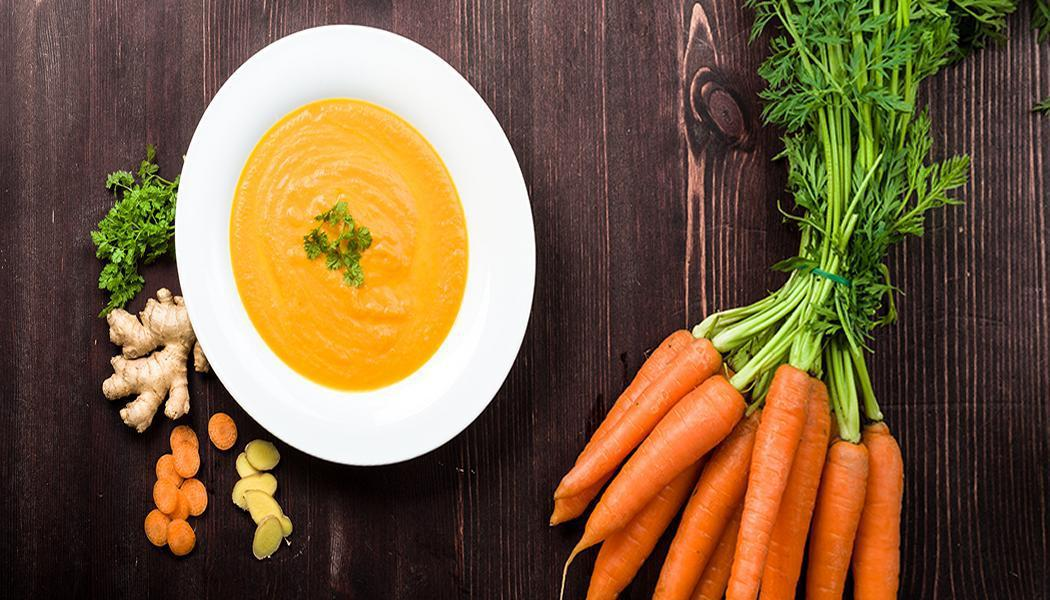carrot: (549, 314, 974, 600), (698, 354, 884, 592)
